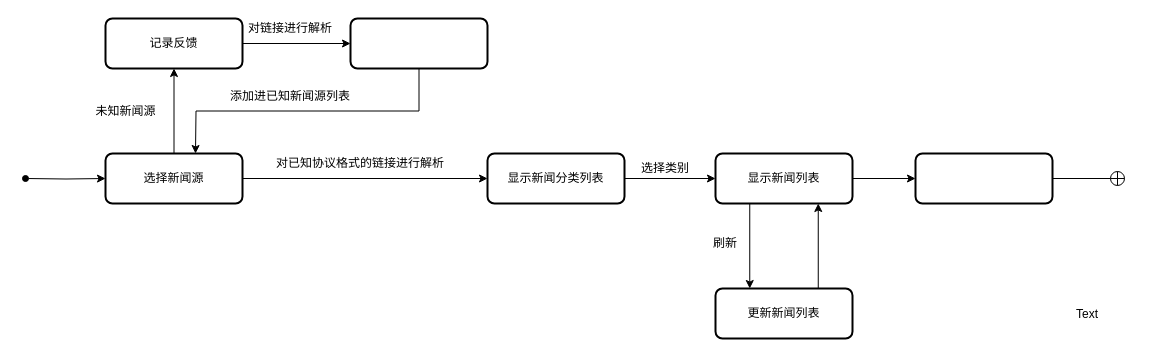
This 1151x356 diagram has some shape labels left out. Each missing label, with the centre of its shape:
点击新闻标题进行查看: point 983,178
生成新的新闻源选项: point 418,43
